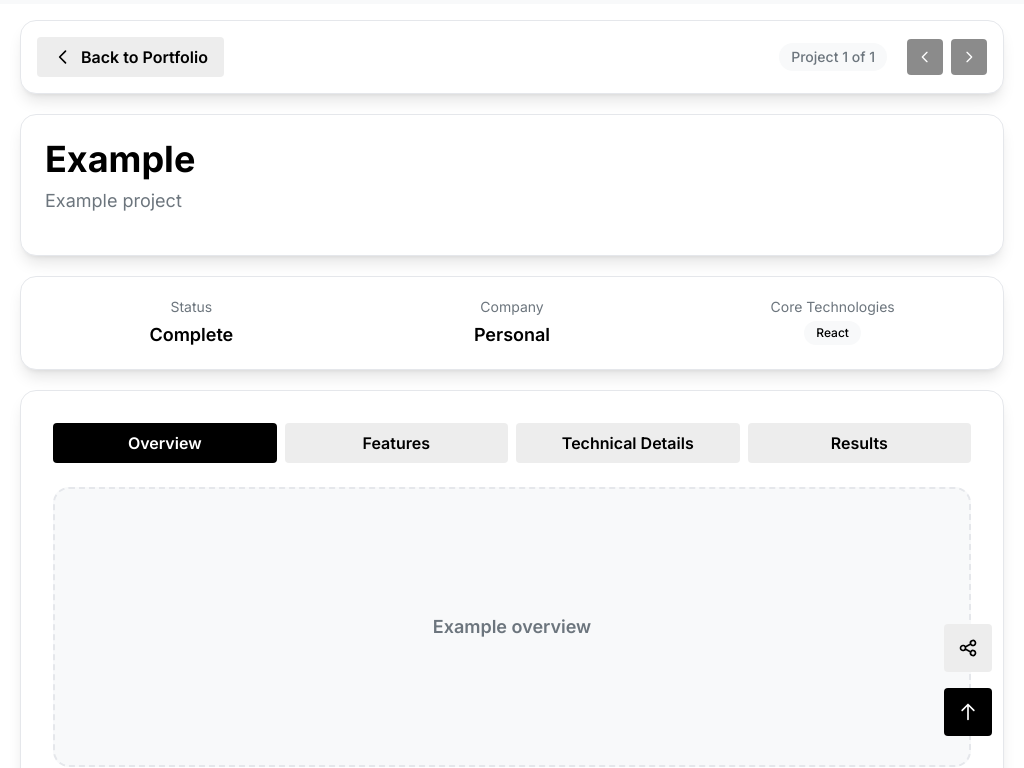
Scenario: optional project detail sections › hides Future Goals when its data is null while retaining results
Click the button "Results".
click(859, 443)  # box [748,423,971,463]
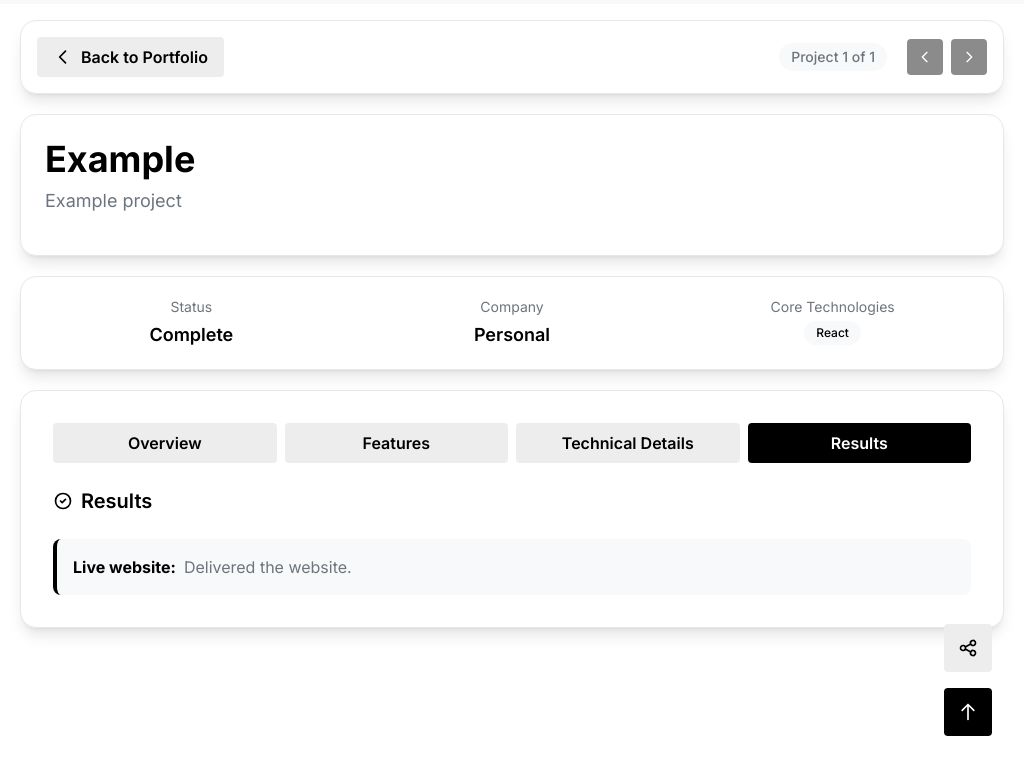
Check: the text "Delivered the website." is shown, box [184,557,352,577]
